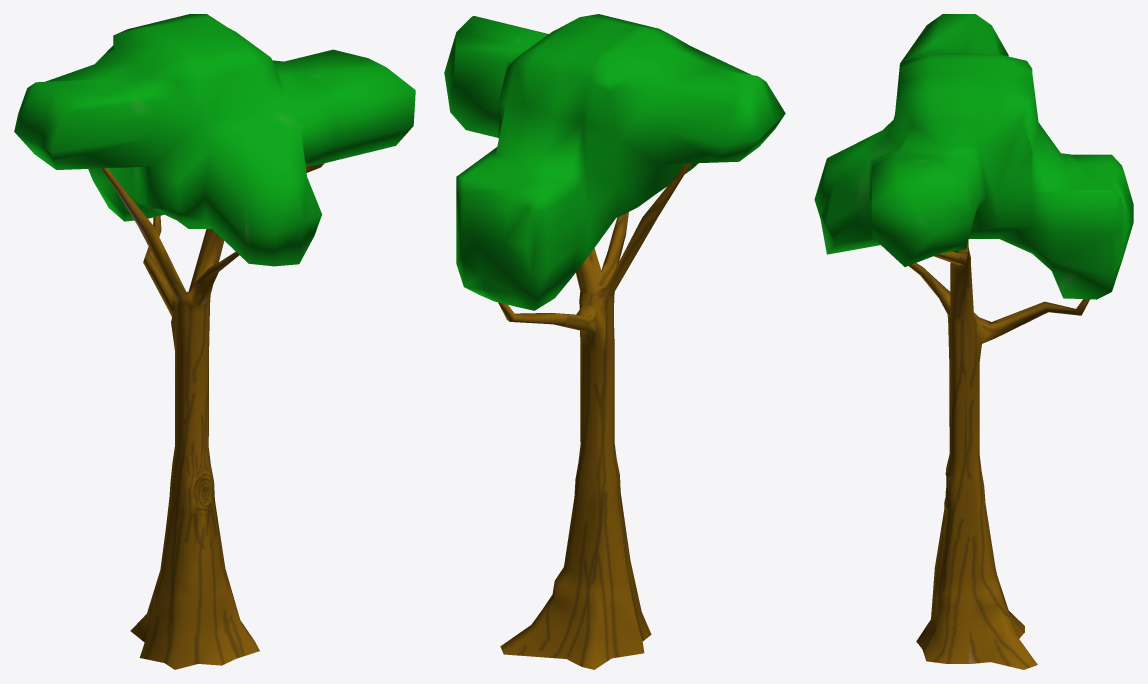
Rendered from prototype_tree.obj.
The picture shows the model from 3 angles, left to right: view 1: azimuth 30°, elevation 25°; view 2: azimuth 150°, elevation 25°; view 3: azimuth 270°, elevation 25°; orthographic projection. The views are drawn at different scales.
Parts seen in each view (by area): view 1: Cube; view 2: Cube; view 3: Cube.
Boxes of the visible parts, left/top/right/bottom form: Cube: left=14, top=14, right=415, bottom=669; Cube: left=444, top=14, right=785, bottom=669; Cube: left=814, top=14, right=1133, bottom=669.
Size of the model in its own units: 1.11 by 1.87 by 0.9479.
